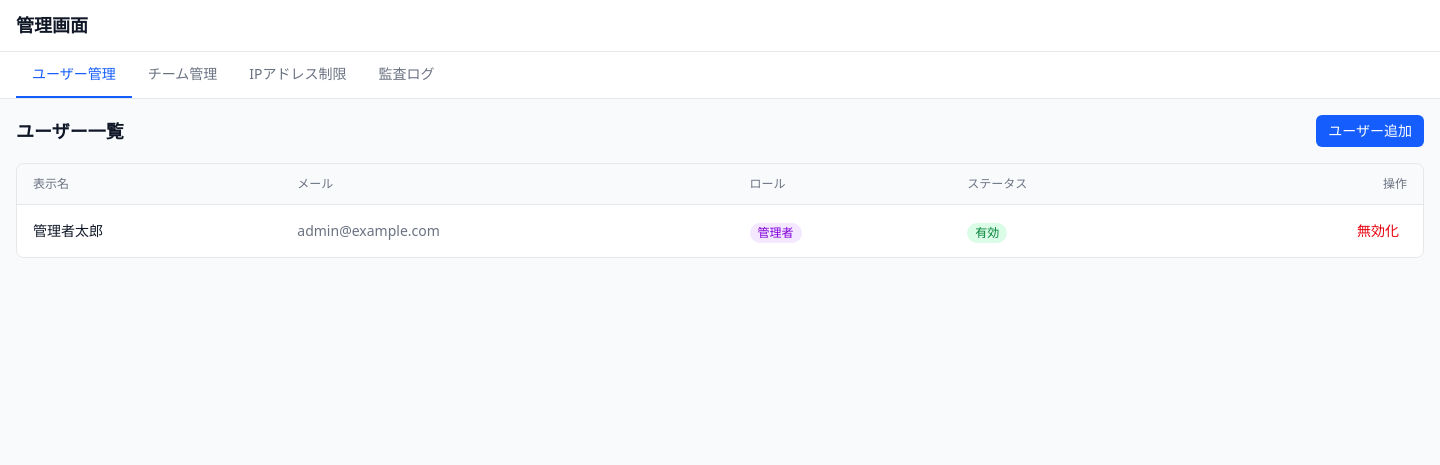
Test: AdminPage › switches to audit logs tab
Click the tab "監査ログ" at point(406, 75), box [362, 52, 450, 98]
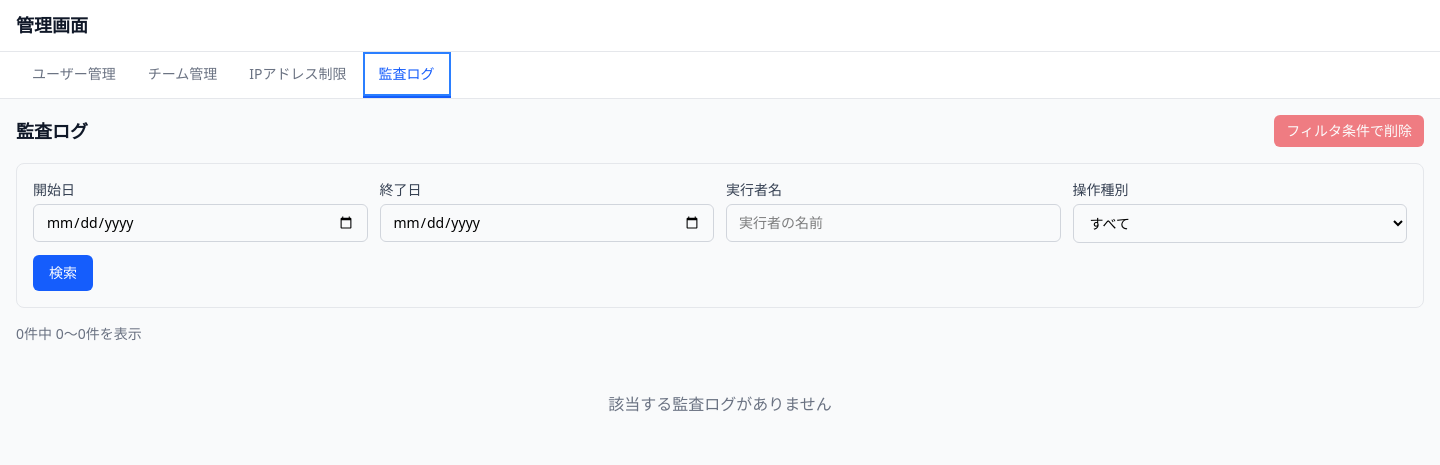
Now the element named "監査ログ管理" is shown
